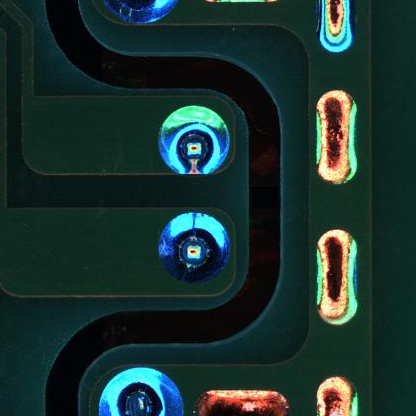spot: (153, 100, 234, 181), (153, 207, 235, 287)
